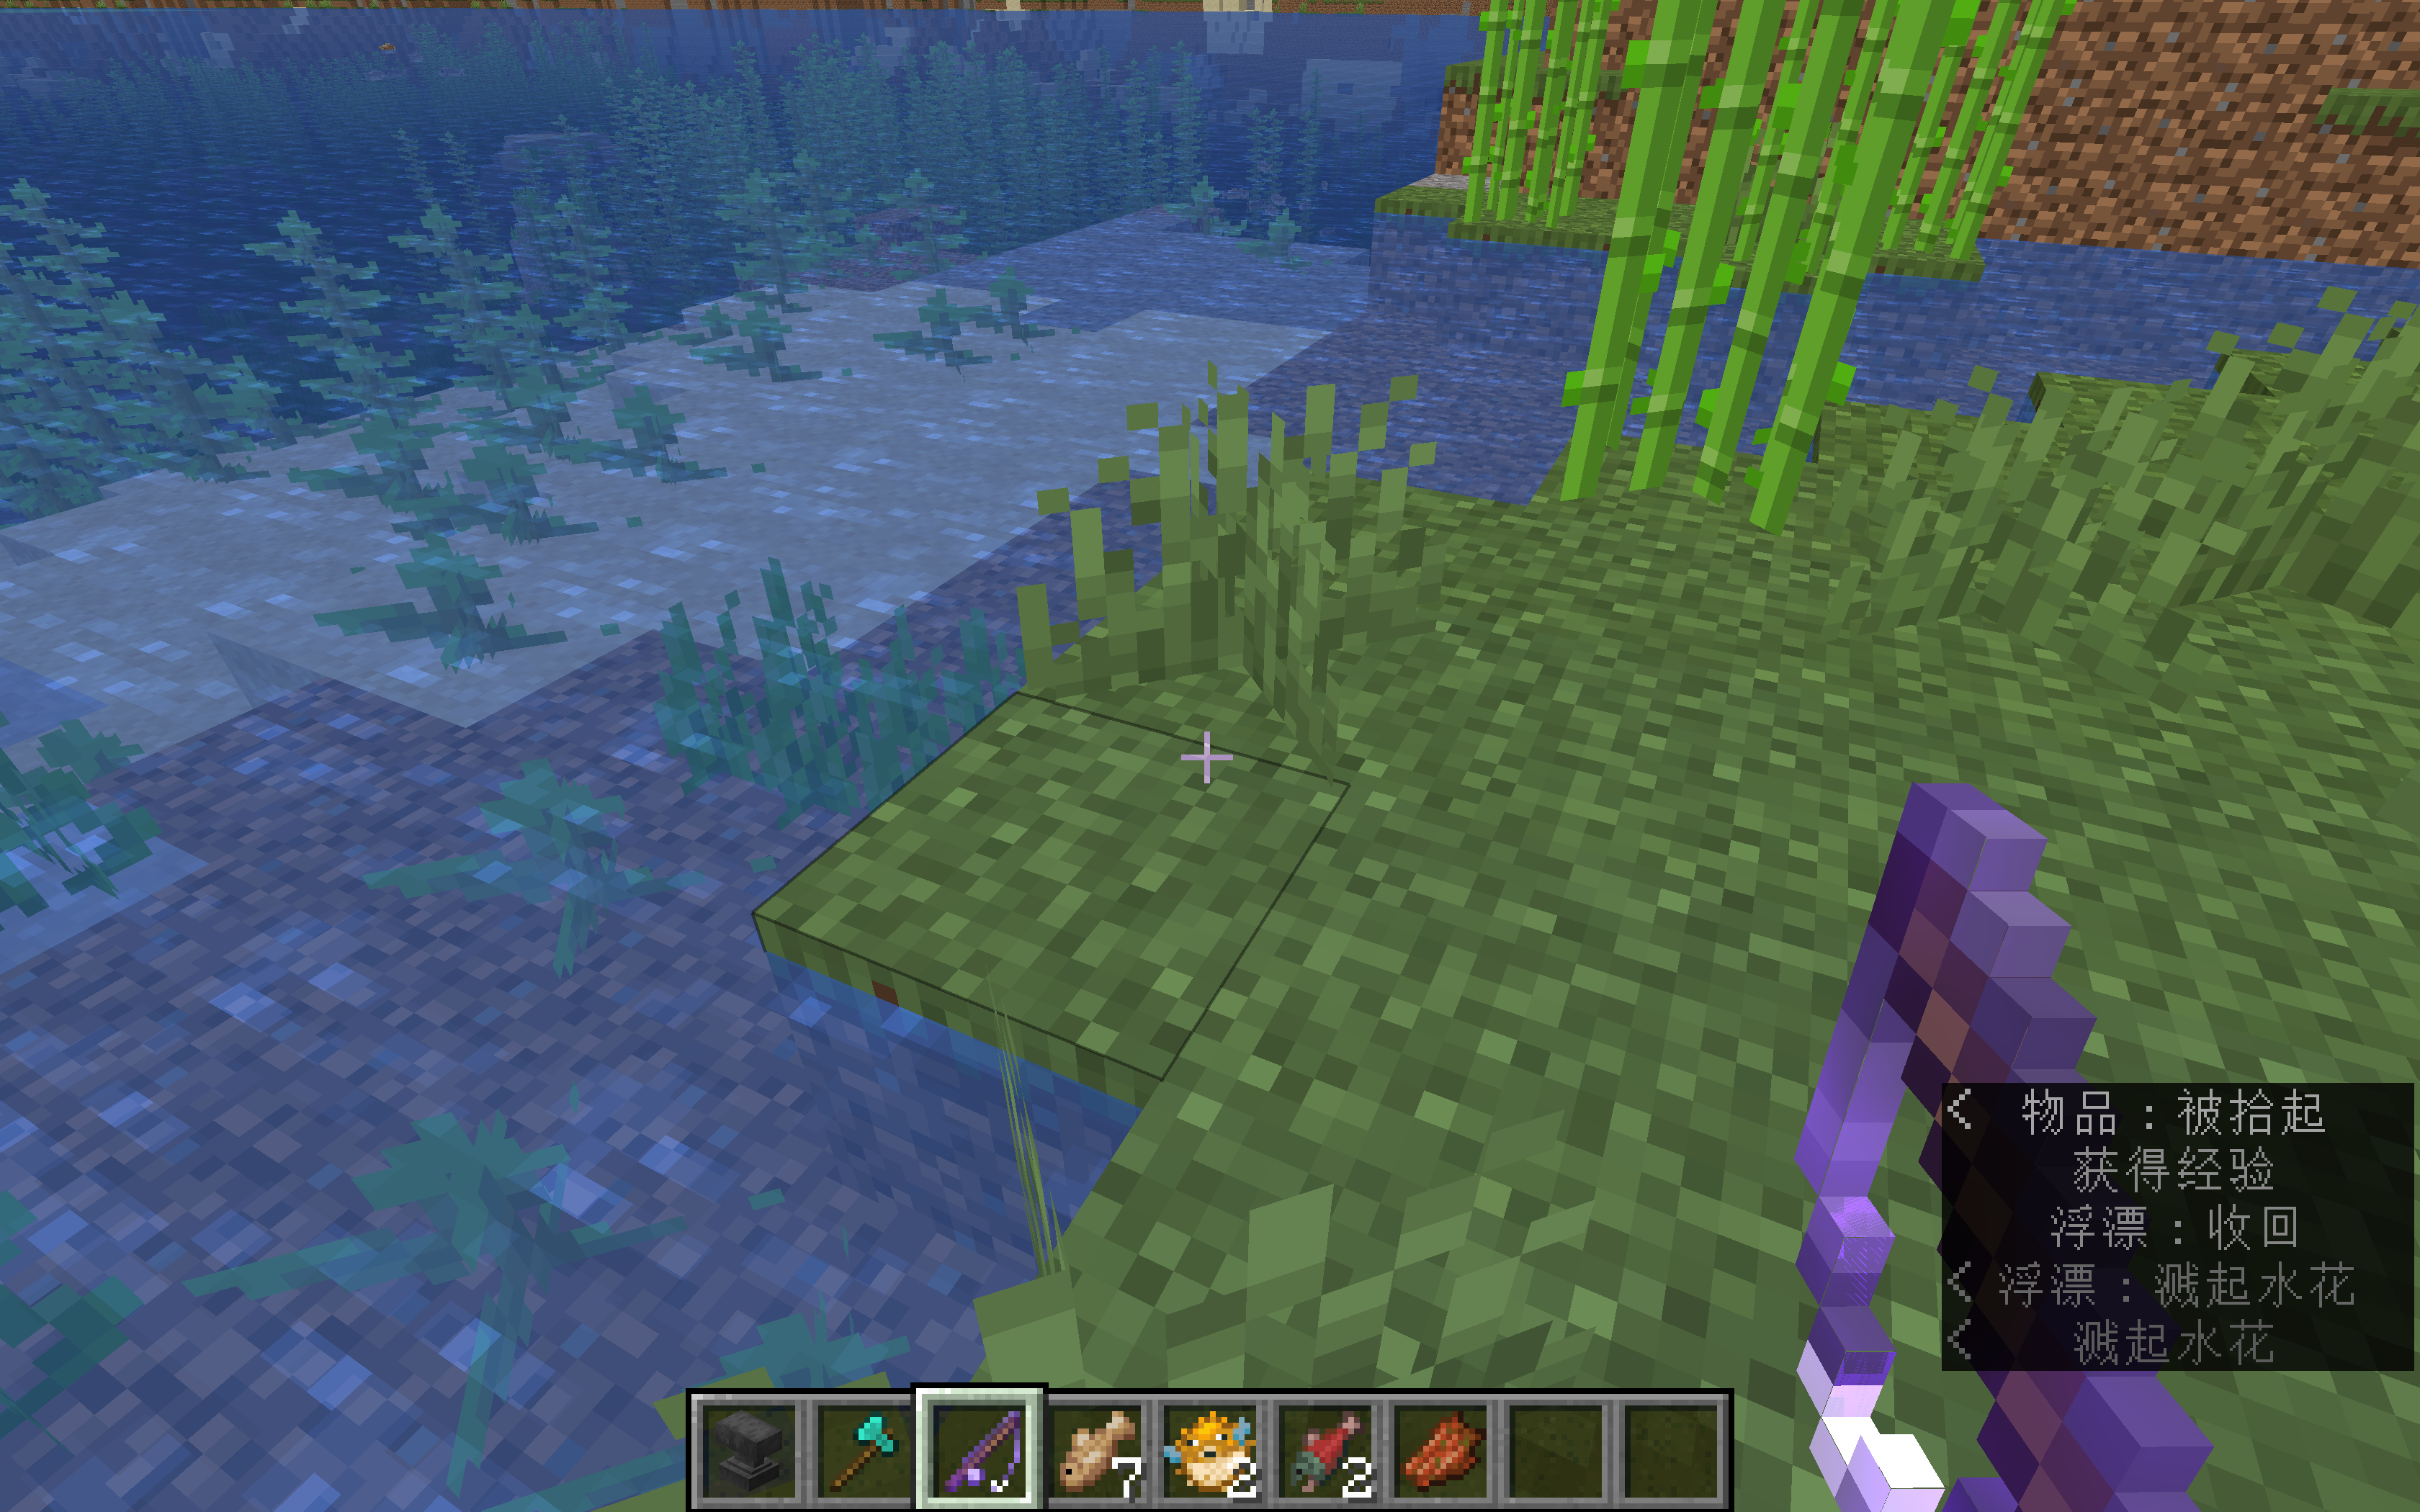inf: (1944, 1082, 2417, 1373)
